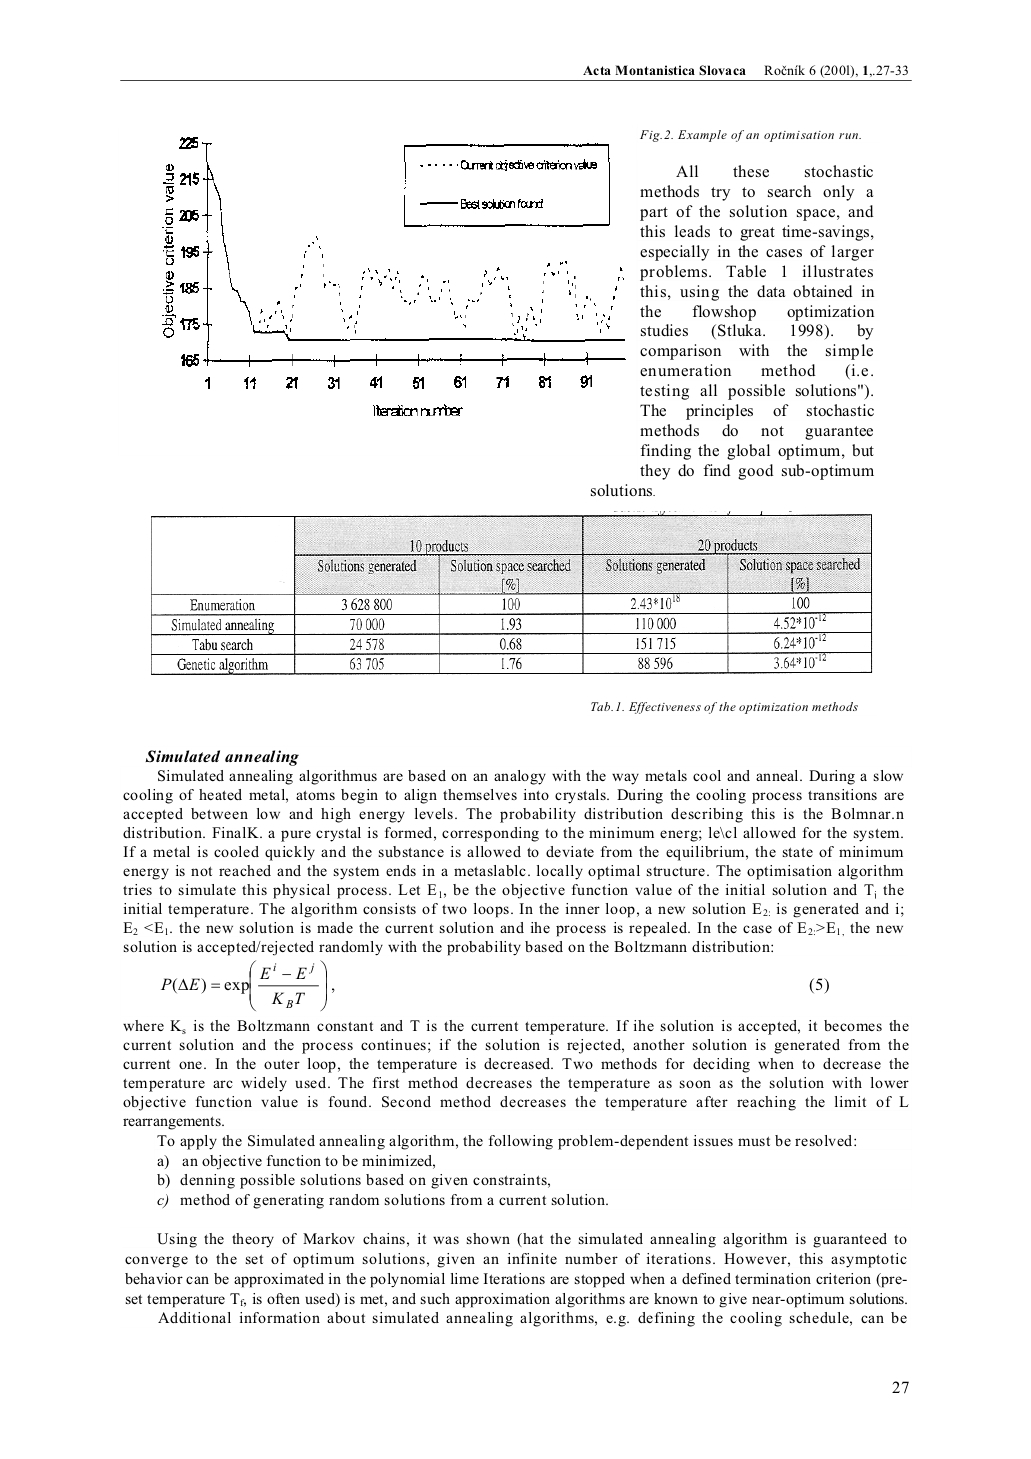Table: (151, 510, 873, 675)
figure: (162, 137, 625, 415)
formula: (160, 959, 828, 1012)
